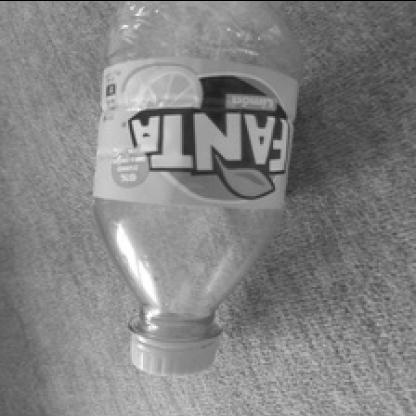plastic_bottles: (86, 0, 302, 377)
